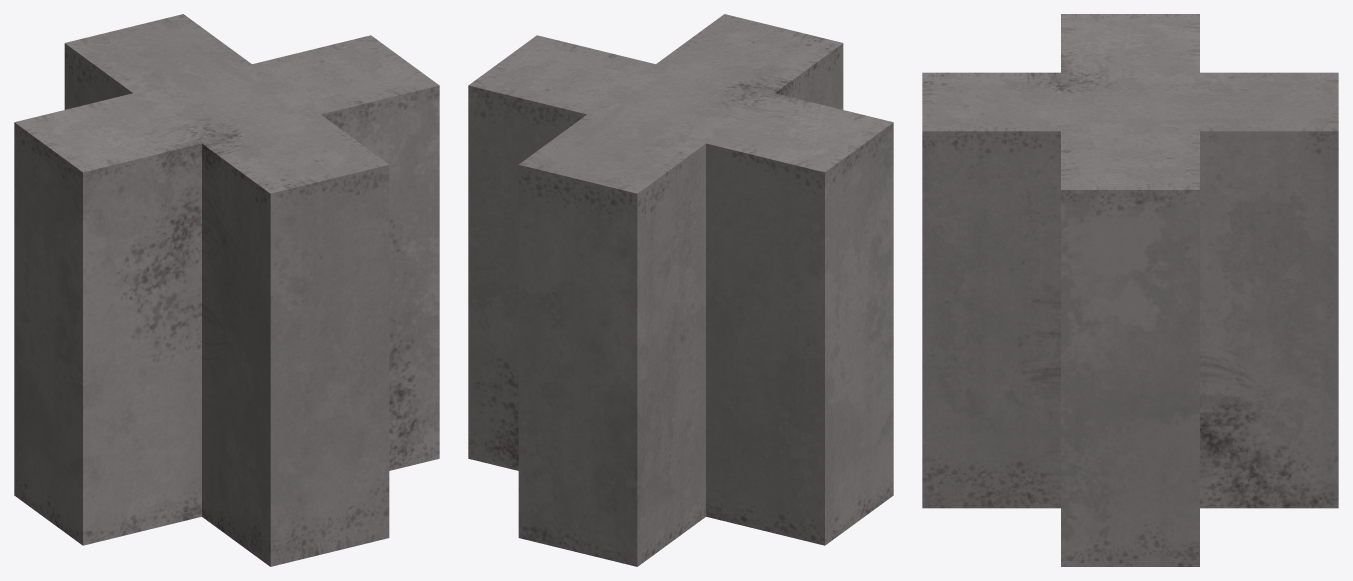
File: Junction.fbx
3 renders of one model, left to right at view 1: azimuth 30°, elevation 25°; view 2: azimuth 150°, elevation 25°; view 3: azimuth 270°, elevation 25°, orthographic.
Visible parts, largest first — view 1: Junction_3x3; view 2: Junction_3x3; view 3: Junction_3x3.
Part boxes in pixels (x1,y1,x2,y2): Junction_3x3: (14,14,439,566); Junction_3x3: (468,14,893,566); Junction_3x3: (922,14,1338,566).
Size of the model in its own units: 3 by 3 by 3.
